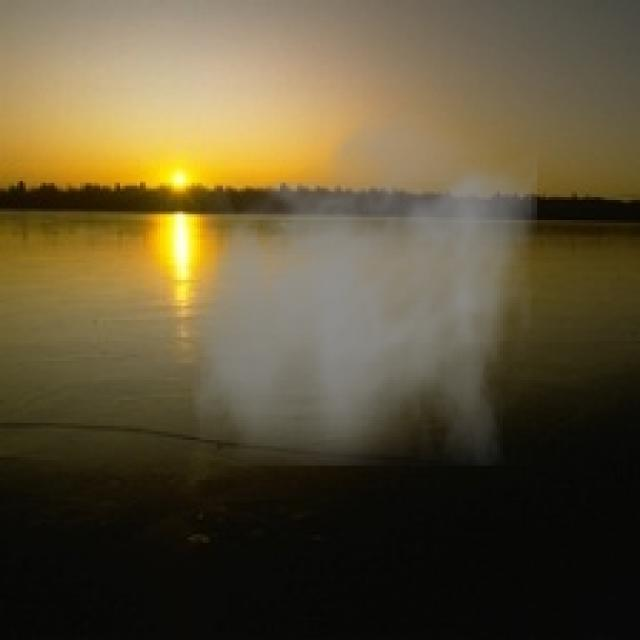smoke: (192, 94, 537, 466)
